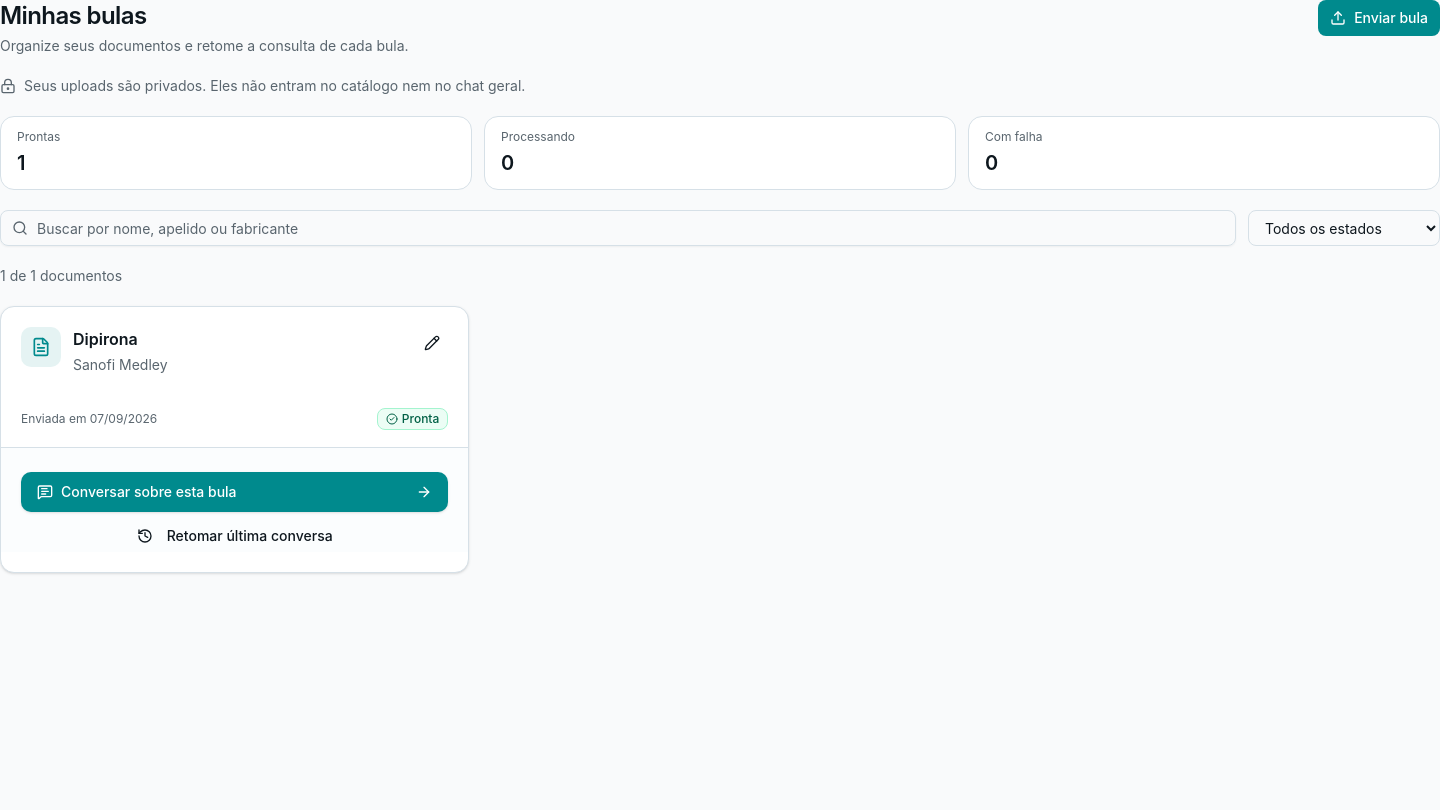
Test: UserBulaSection › preserves the draft and original alias when saving fails
The width and height of the screenshot is (1440, 810).
Click the button named "Editar apelido de Dipirona". click: (432, 343)
box: [416,327,448,359]
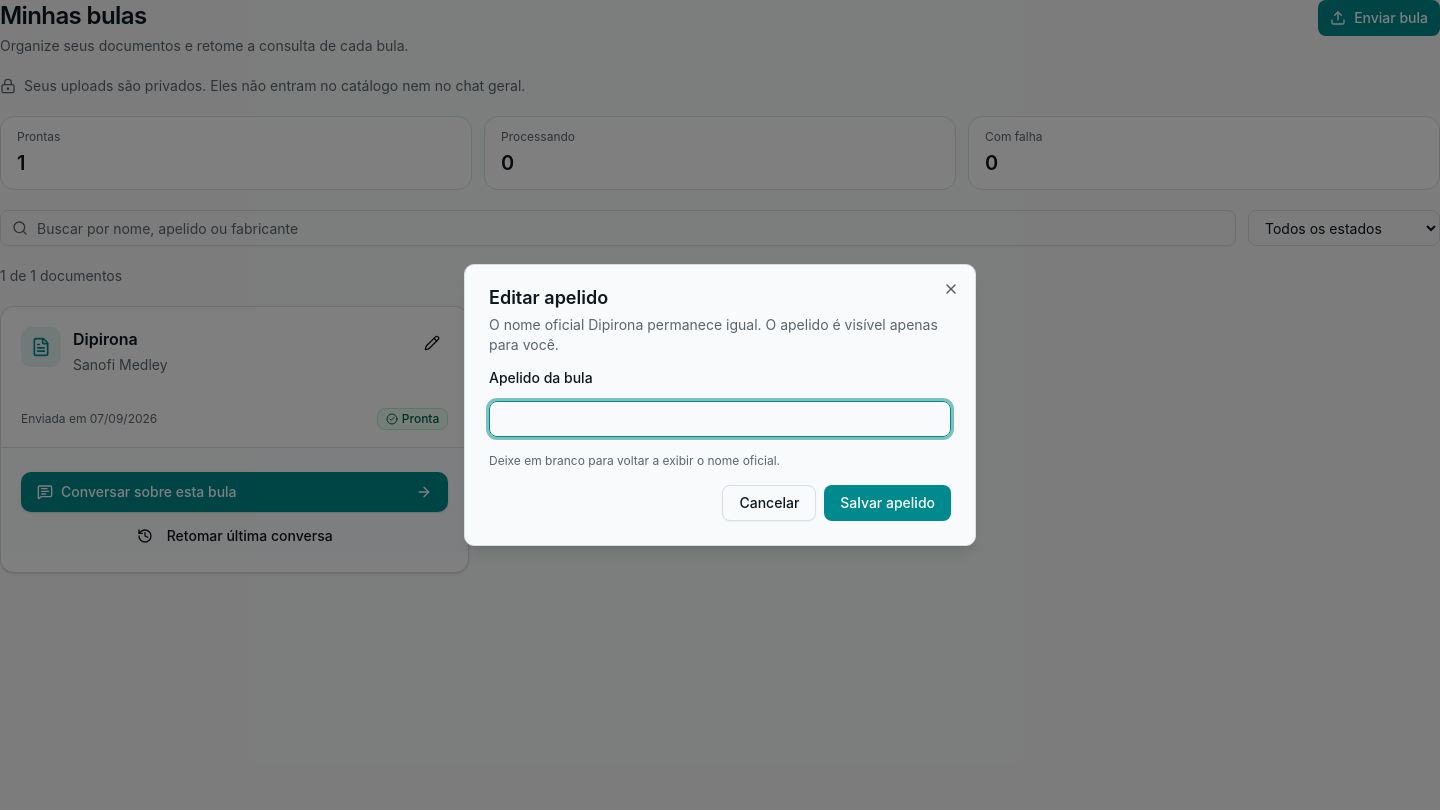
Type "Meu rascunho" into the field labelled "Apelido da bula". click: (720, 419)
box: [489,401,951,437]
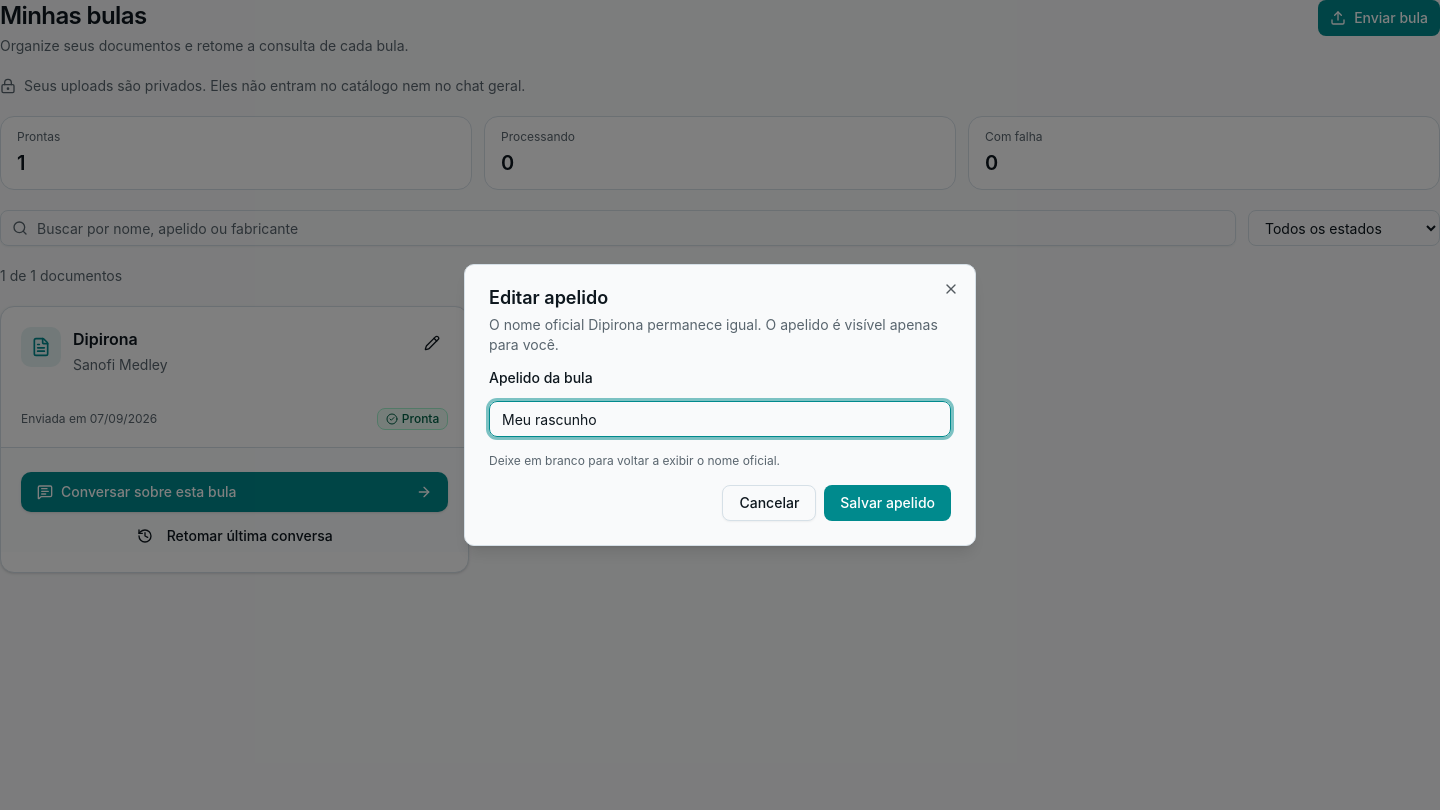
Click the button "Salvar apelido". click: (888, 503)
box: [824,485,951,521]
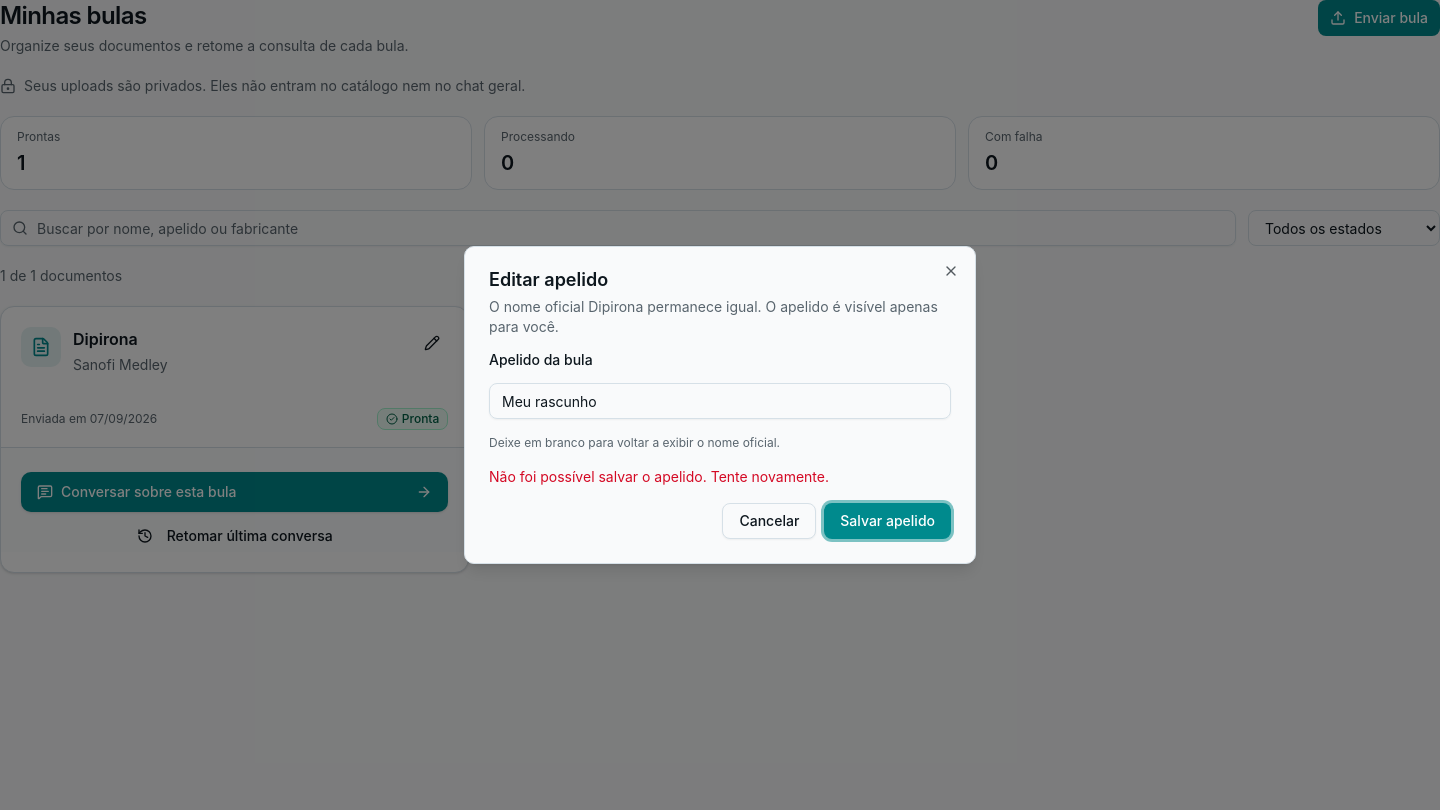
Expected: the message shows "Não foi possível salvar", [489,468,829,485]
